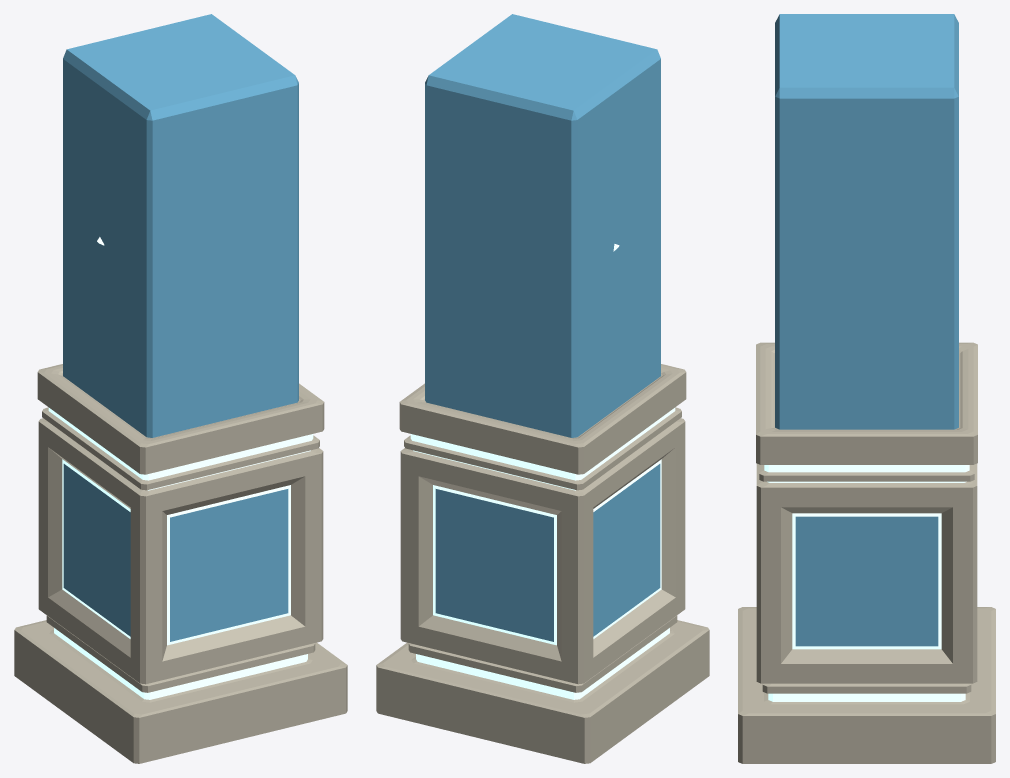
Rendered from Building2.fbx.
3 views of the same model, side by side, from view 1: azimuth 30°, elevation 25°; view 2: azimuth 150°, elevation 25°; view 3: azimuth 270°, elevation 25° (orthographic). The views are drawn at different scales.
Parts seen in each view (by area): view 1: Cube.001, Cube; view 2: Cube.001, Cube; view 3: Cube.001, Cube.
Part boxes in pixels (<box>): Cube.001: <box>14,364,347,763</box>; Cube: <box>63,14,298,437</box>; Cube.001: <box>376,364,709,763</box>; Cube: <box>425,14,660,437</box>; Cube.001: <box>738,342,995,763</box>; Cube: <box>775,14,958,429</box>.
Size of the model in its own units: 281 by 792 by 281.
